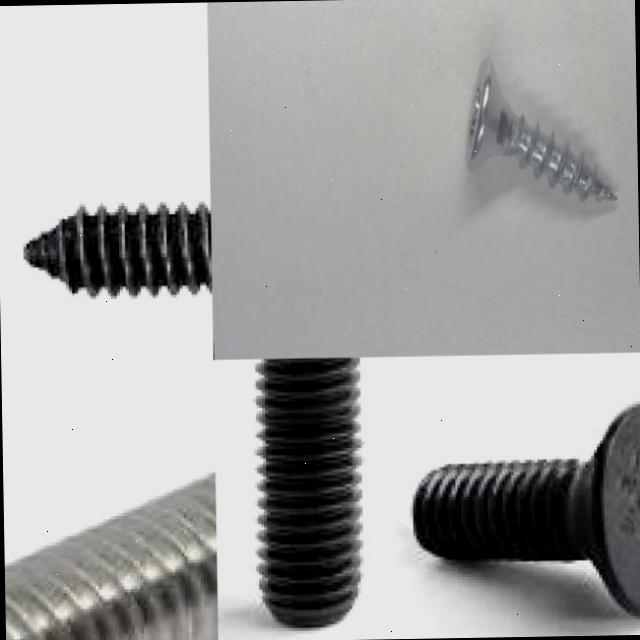Screw: (409, 404, 640, 616), (4, 471, 218, 640), (256, 357, 363, 633), (466, 58, 616, 199), (20, 207, 212, 296)
